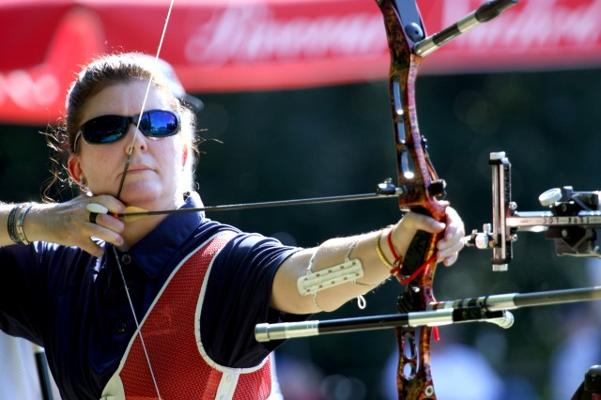person: (3, 56, 465, 399)
